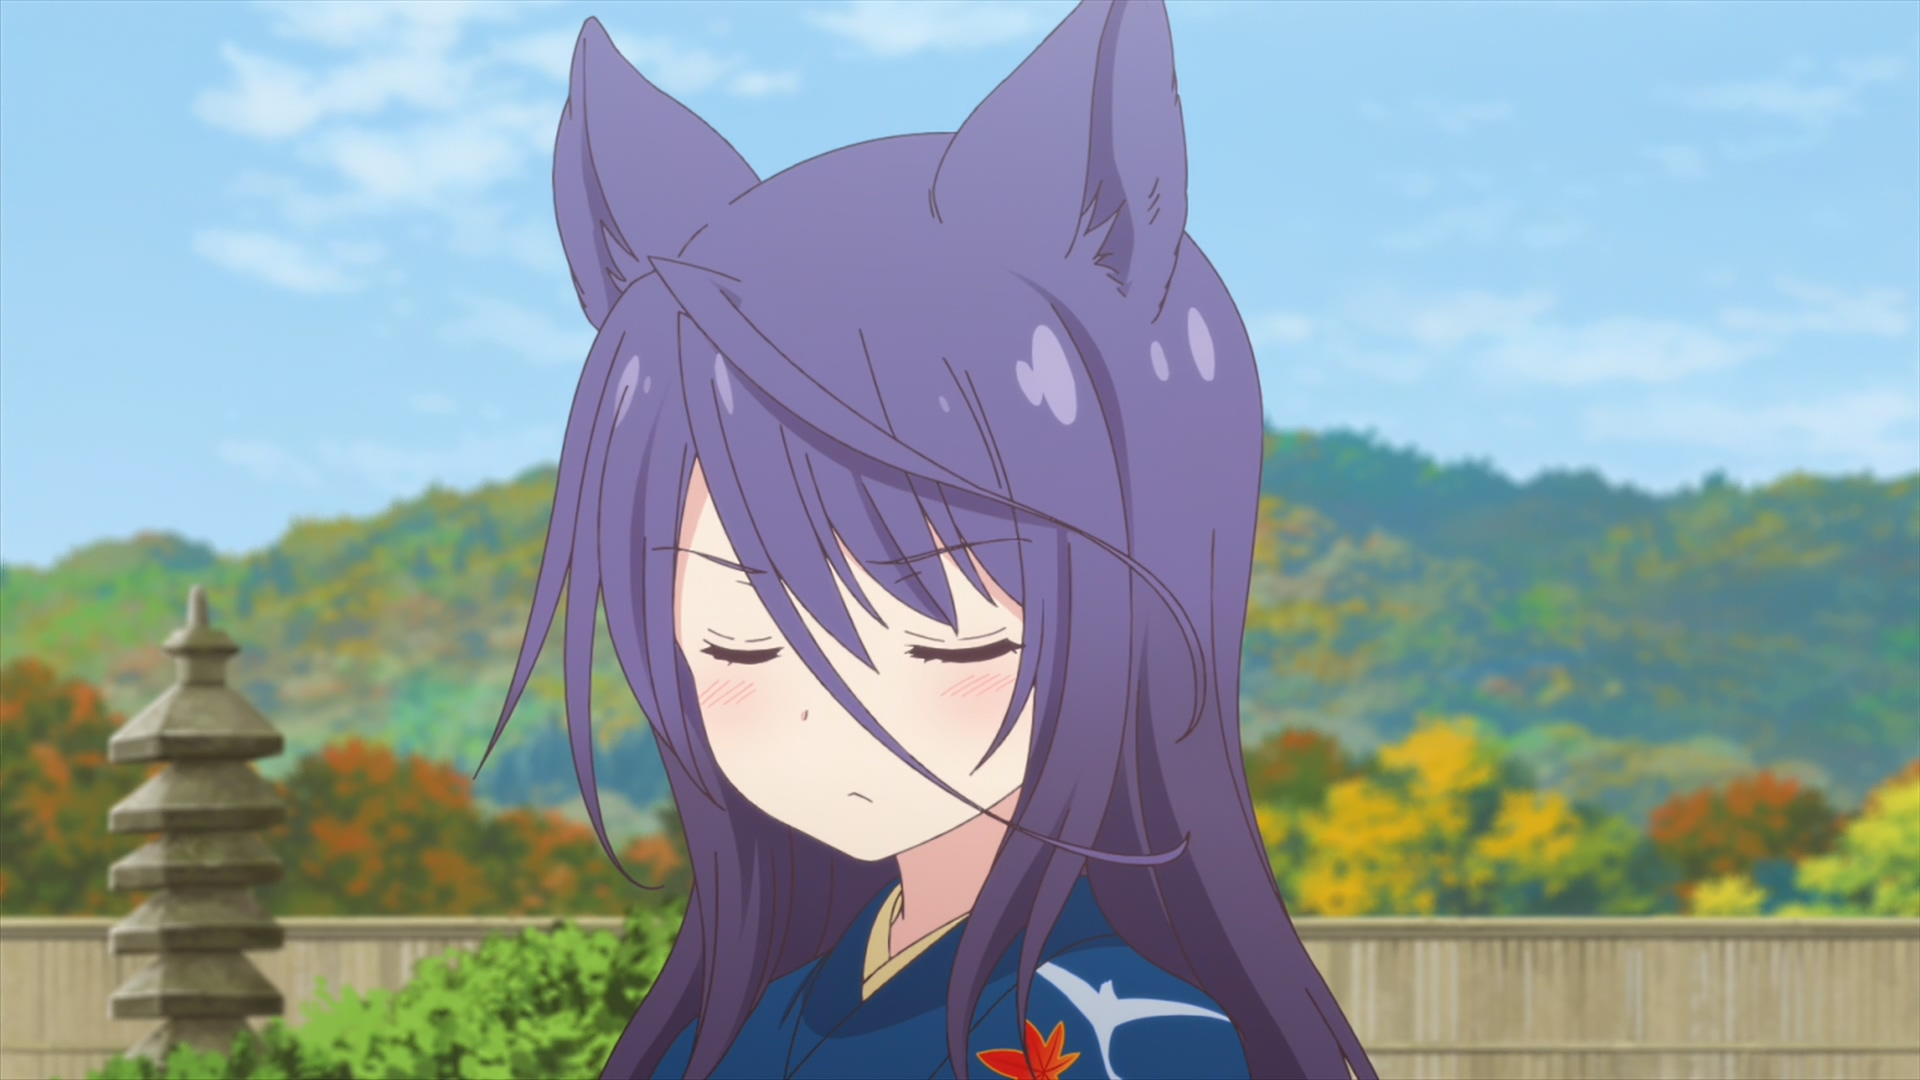皋: (472, 1, 1374, 1080)
